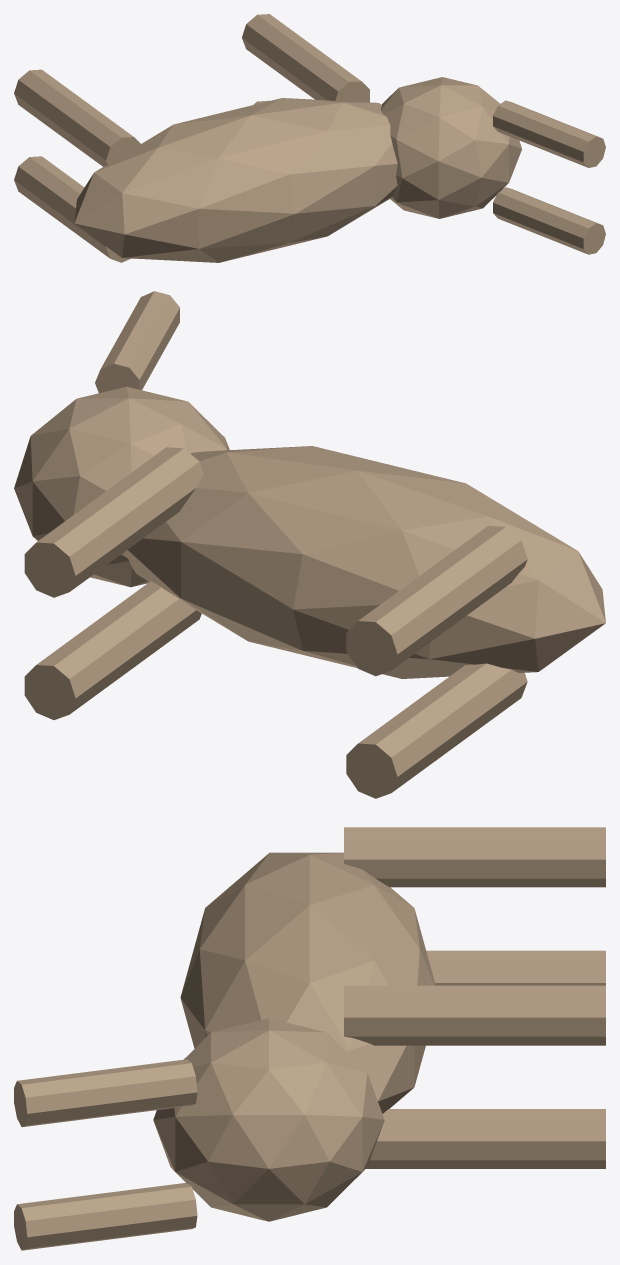
Rendered from deer.glb.
3 views of the same model, one above another, from view 1: azimuth 30°, elevation 25°; view 2: azimuth 150°, elevation 25°; view 3: azimuth 270°, elevation 25° (orthographic). The views are drawn at different scales.
Parts seen in each view (by area): view 1: world; view 2: world; view 3: world.
Boxes of the visible parts, x1,y1,x2,y2 form: world: [14, 14, 605, 262]; world: [14, 291, 605, 798]; world: [14, 827, 605, 1250].
Size of the model in its own units: 2.09 by 0.6 by 1.74.
